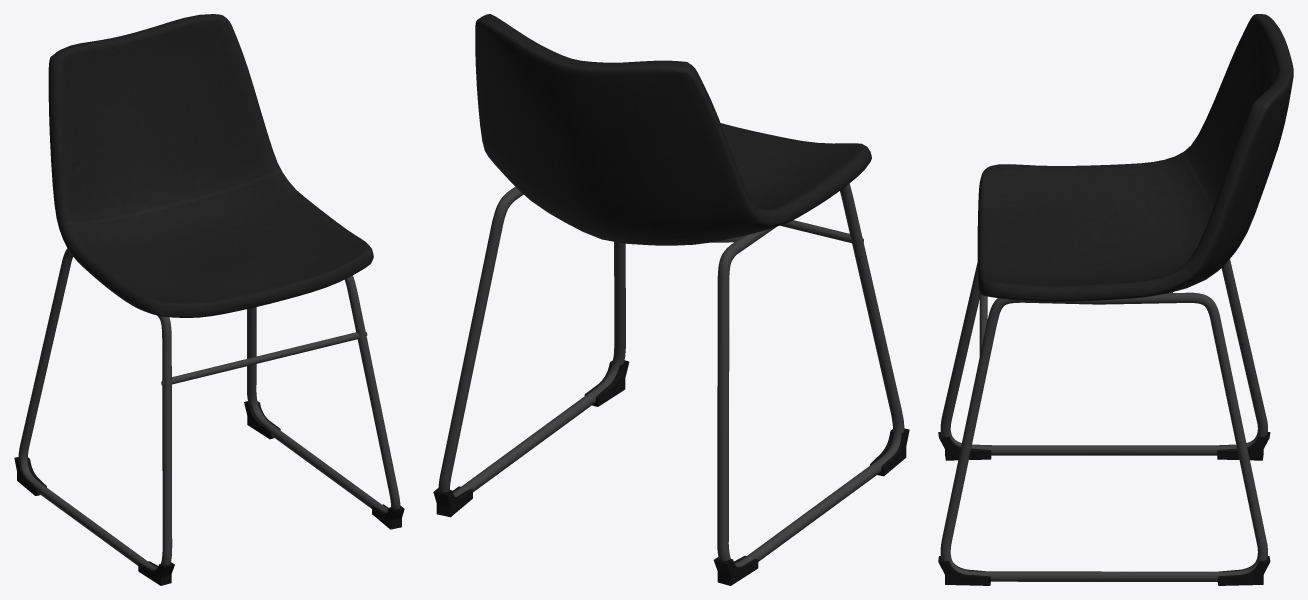
Rendered from scaun-modern-negru.831ad3c591.glb.
3 views of the same model, side by side, from view 1: azimuth 30°, elevation 25°; view 2: azimuth 150°, elevation 25°; view 3: azimuth 270°, elevation 25° (orthographic). The views are drawn at different scales.
Visible parts, largest first — view 1: myrick chair_Myrick Chair_0; view 2: myrick chair_Myrick Chair_0; view 3: myrick chair_Myrick Chair_0.
Boxes of the visible parts, x1=… form: myrick chair_Myrick Chair_0: x1=14, y1=14, x2=404, y2=585; myrick chair_Myrick Chair_0: x1=433, y1=14, x2=909, y2=585; myrick chair_Myrick Chair_0: x1=938, y1=14, x2=1293, y2=585.
Bounding box in the file's own units: 0.508 × 0.8272 × 0.5761.
3 materials, 2 textured.
